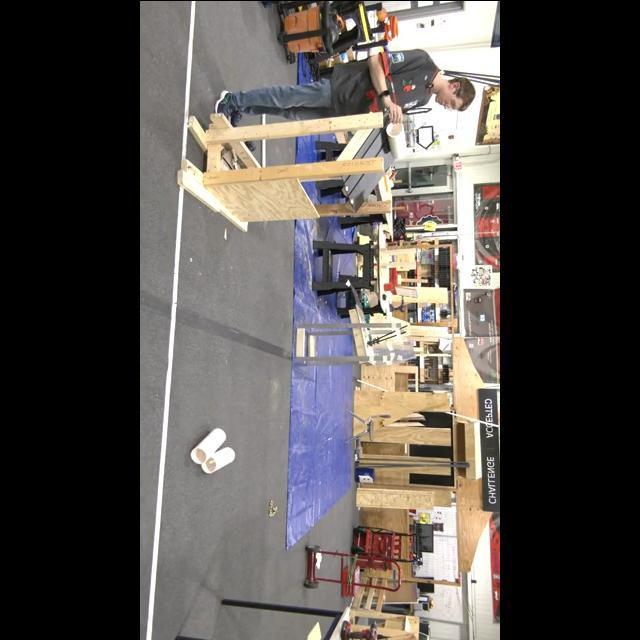CORAL: (190, 428, 228, 464), (202, 446, 238, 474), (386, 120, 409, 160)
